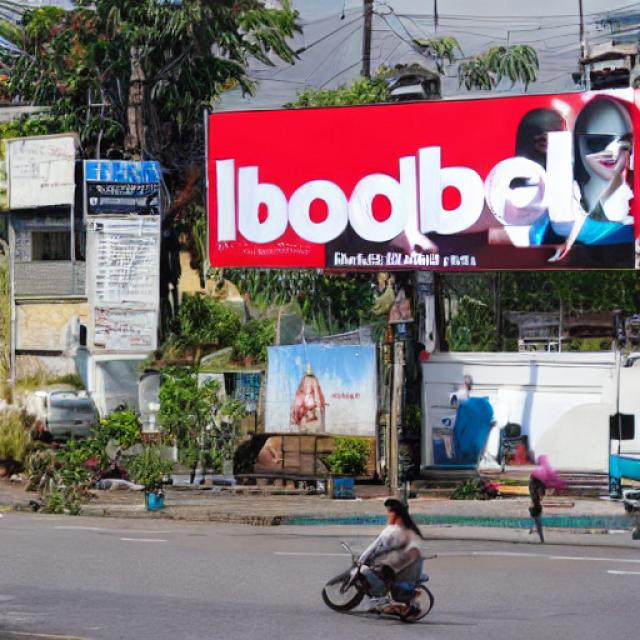Billboard: (208, 88, 640, 268)
